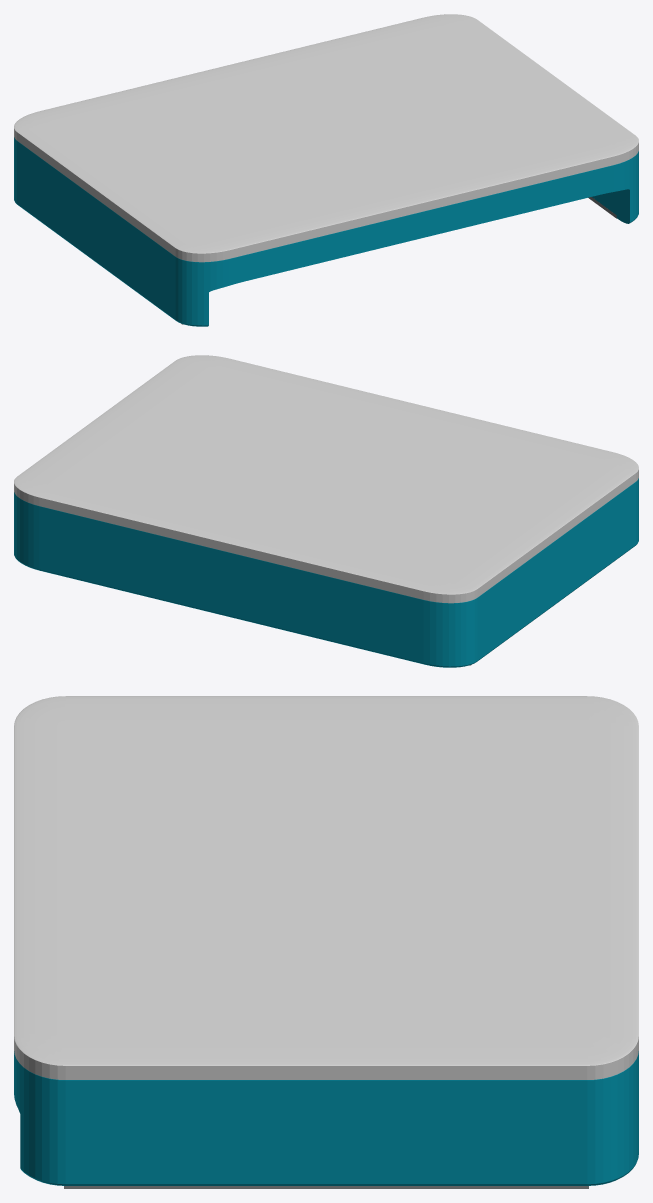
The picture shows the model from 3 angles, top to bottom: view 1: azimuth 30°, elevation 25°; view 2: azimuth 150°, elevation 25°; view 3: azimuth 270°, elevation 25°; orthographic projection. The views are drawn at different scales.
Parts seen in each view (by area): view 1: Mesh_Mesh_head_geo.001_lambert2SG.001; view 2: Mesh_Mesh_head_geo.001_lambert2SG.001; view 3: Mesh_Mesh_head_geo.001_lambert2SG.001.
Boxes of the visible parts, x1,y1,x2,y2 form: Mesh_Mesh_head_geo.001_lambert2SG.001: (14, 14, 638, 326); Mesh_Mesh_head_geo.001_lambert2SG.001: (14, 355, 638, 667); Mesh_Mesh_head_geo.001_lambert2SG.001: (14, 696, 638, 1188).
Bounding box in the file's own units: 0.07 × 0.0114 × 0.05.
